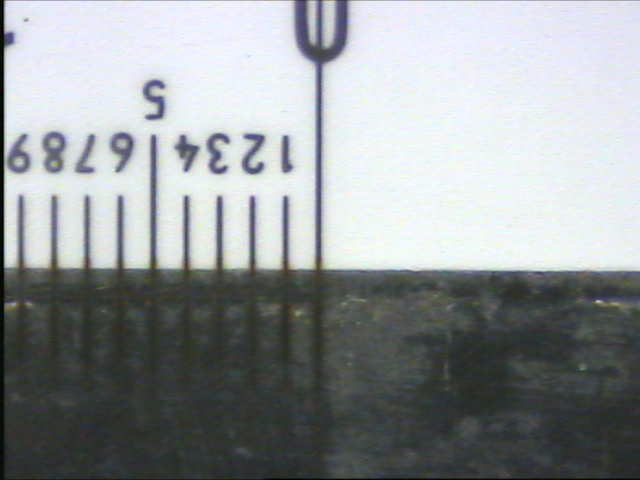line: (313, 64, 324, 268), (149, 132, 157, 267), (215, 192, 225, 267), (248, 193, 257, 268), (182, 193, 191, 268), (84, 192, 92, 268), (116, 193, 124, 267), (282, 193, 289, 268), (51, 193, 58, 267), (17, 193, 24, 267)
